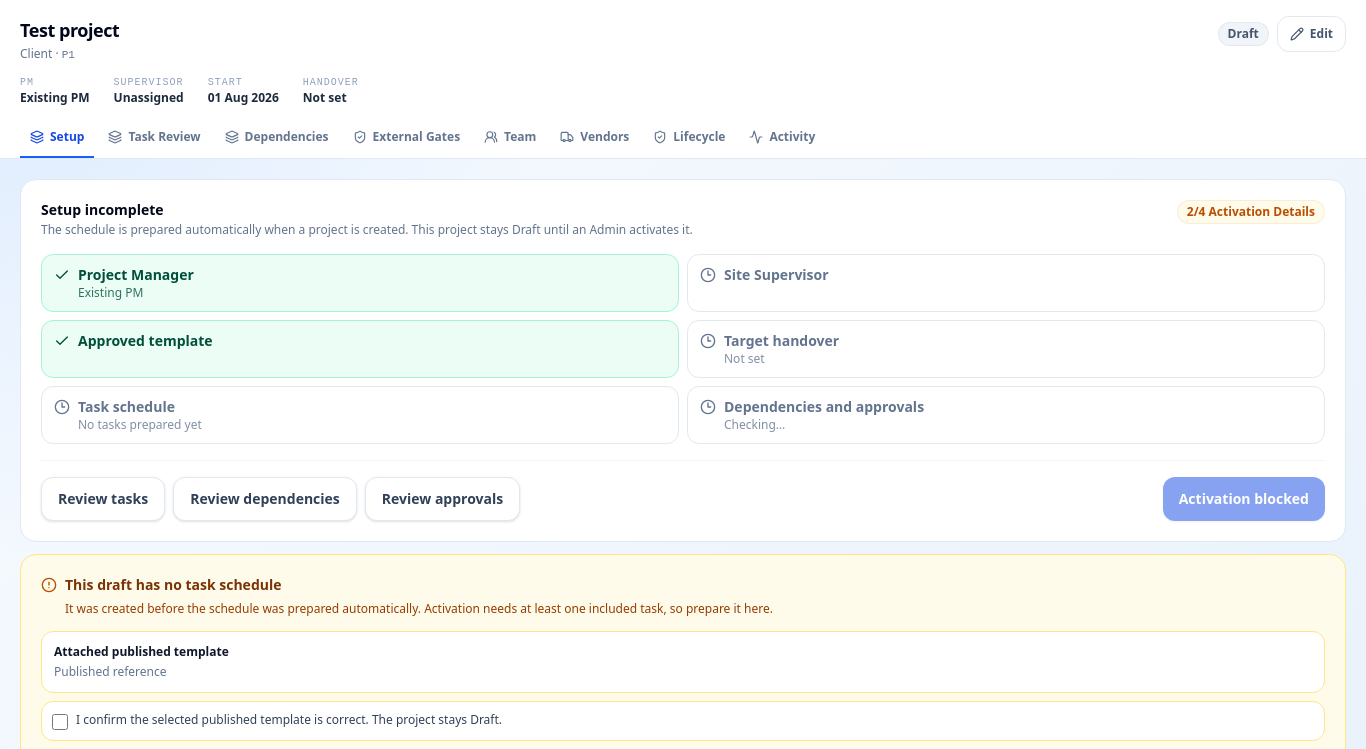
Test: Add team member › shows a pending-approval notice when adding an accountable role returns a role-change request
This screenshot has width=1366, height=749.
Check: the heading "Test project" is shown, box x1=20 y1=16 x2=119 y2=44
Click the button "Team". click: (510, 138)
box: x1=474 y1=118 x2=546 y2=158
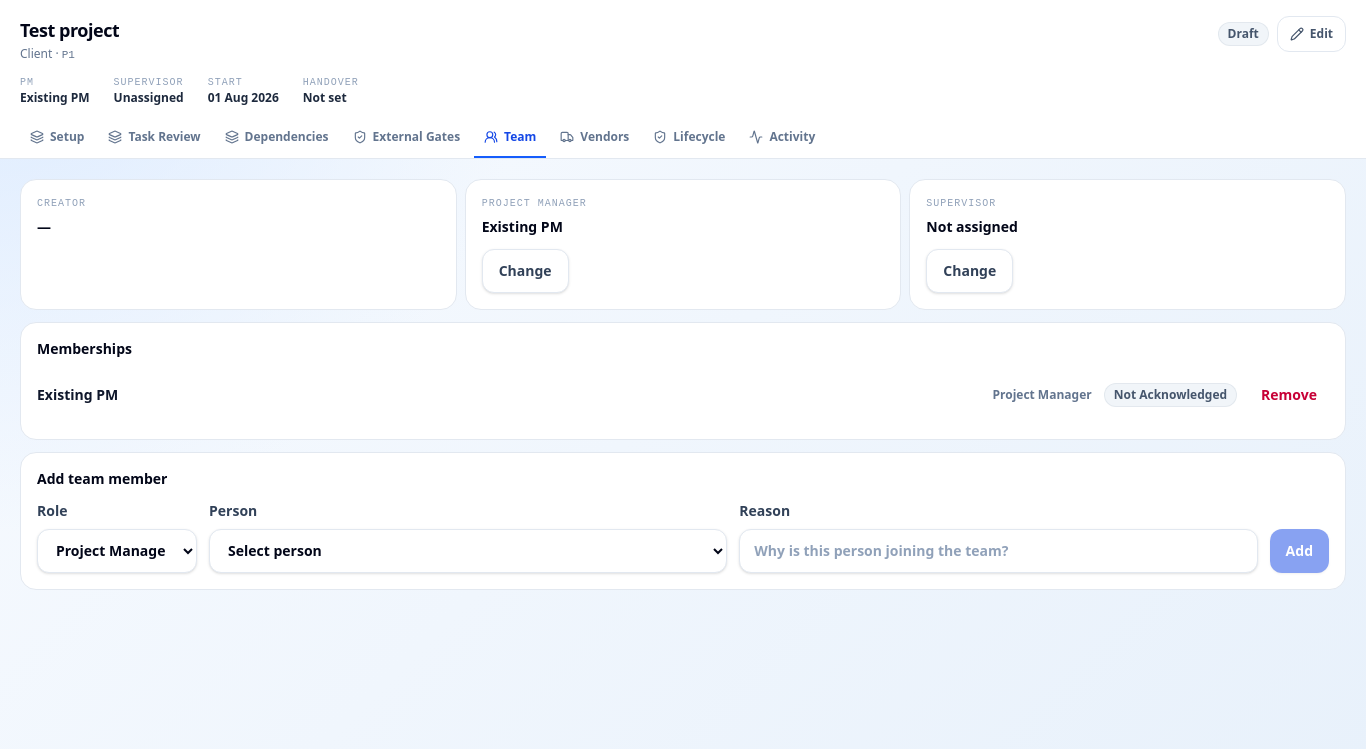
Check: the heading "Add team member" is shown, box x1=37 y1=469 x2=168 y2=488
Select "Project Manager" in the dropdown labelled "Role". click: (117, 551)
box: x1=37 y1=529 x2=197 y2=573
Select "Priya PM - Project Manager" in the dropdown labelled "Person". click: (468, 551)
box: x1=209 y1=529 x2=727 y2=573
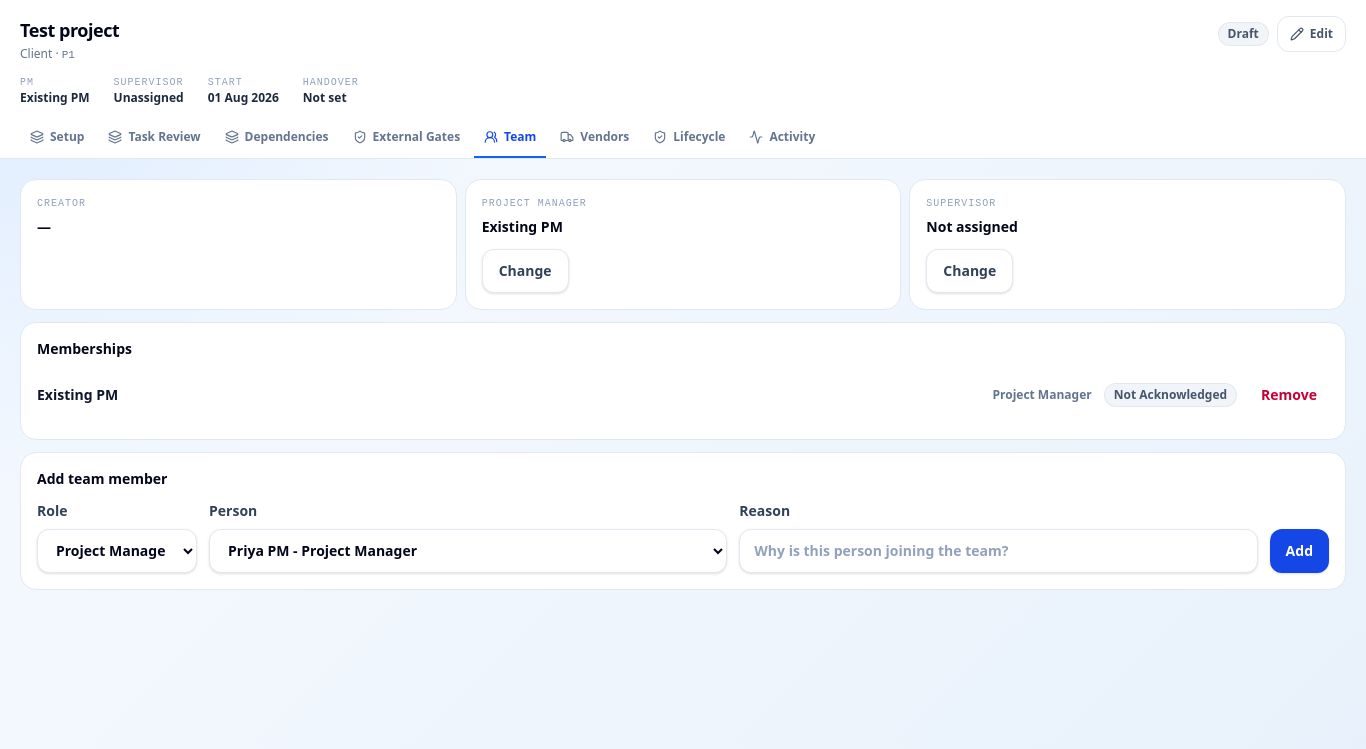
Type "Replacing outgoing PM." into the field labelled "Reason". click: (998, 551)
box: x1=739 y1=529 x2=1258 y2=573
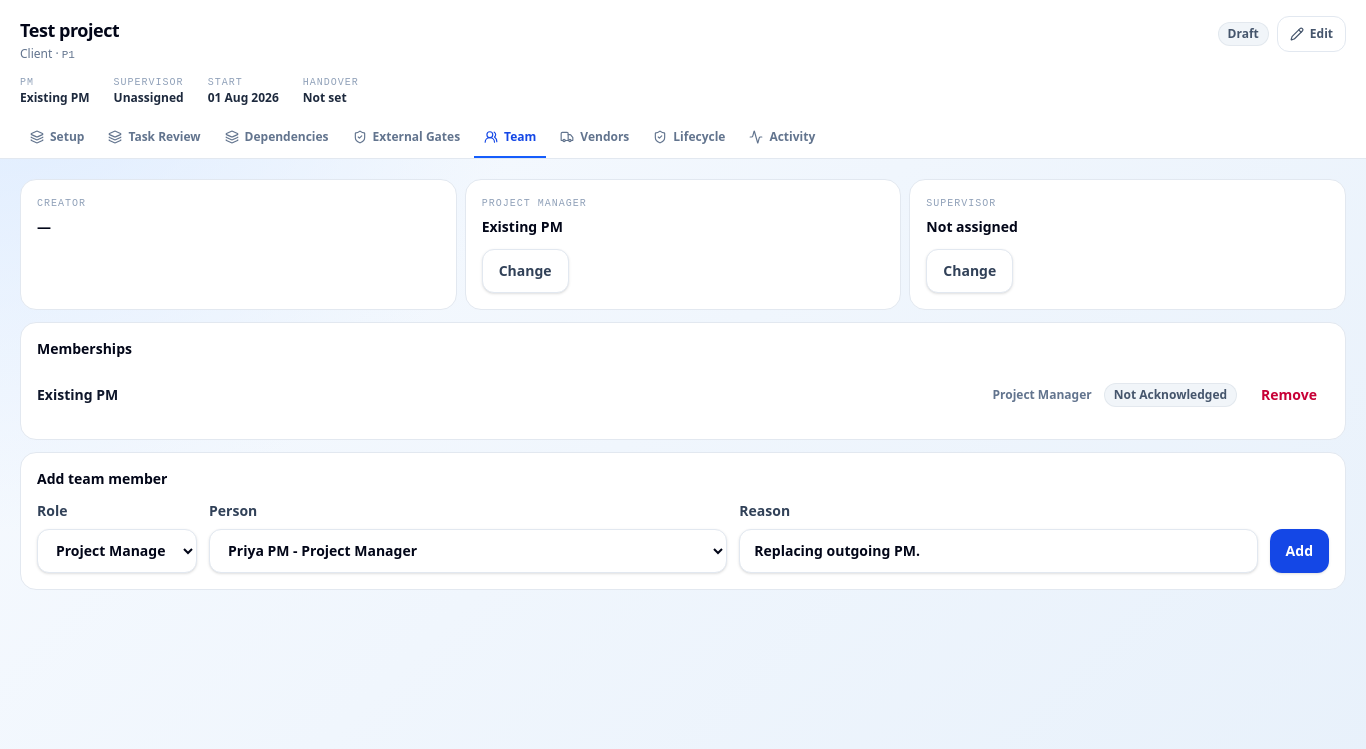
Click the button "Add". click: (1299, 551)
box: x1=1270 y1=529 x2=1329 y2=573
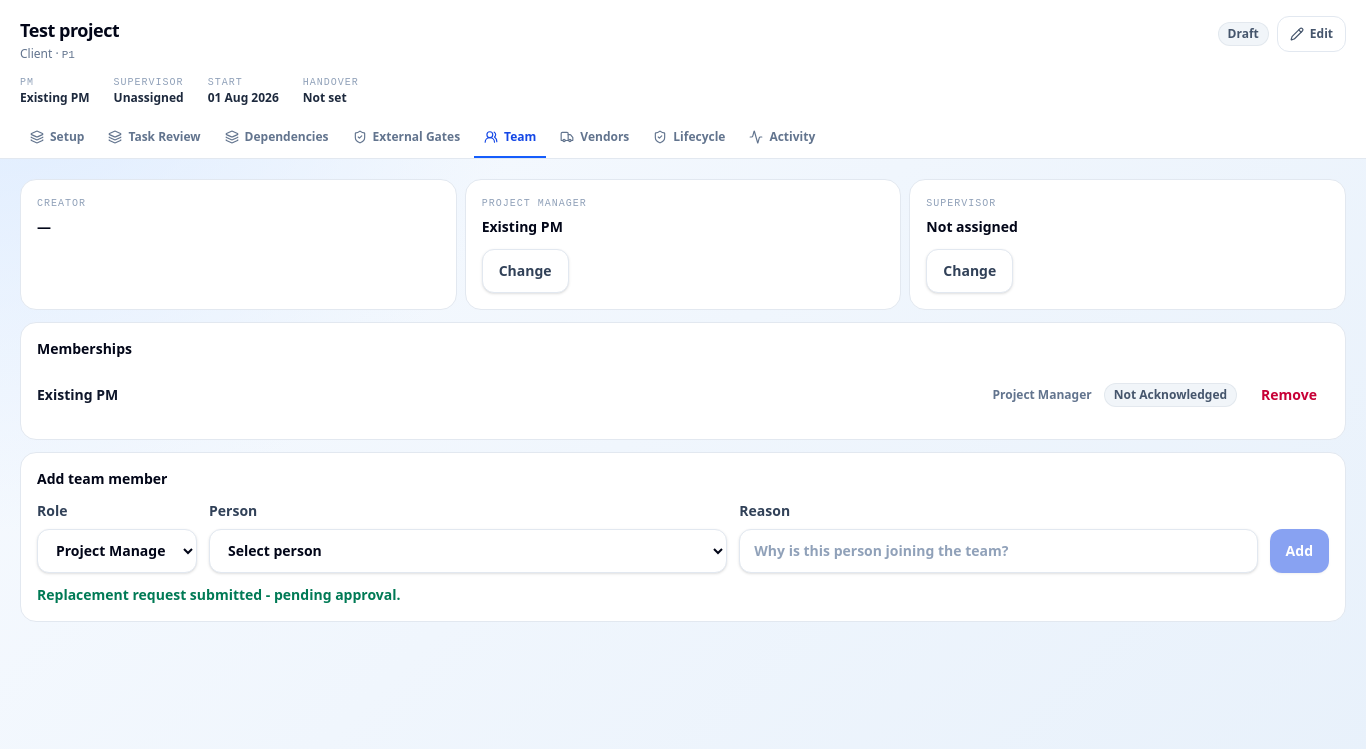
Check: the text "Replacement request submitted - pending approval." is shown, box x1=37 y1=585 x2=400 y2=604
